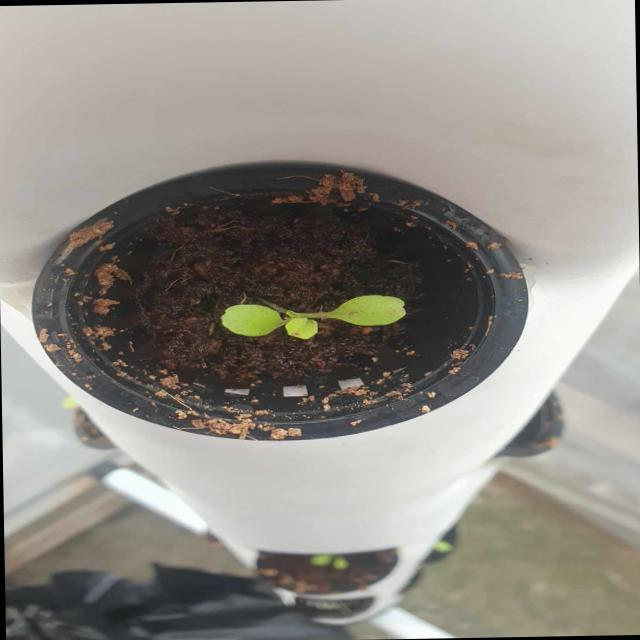Lettuce-Not-Ready-to-Harvest: (214, 265, 421, 364)
